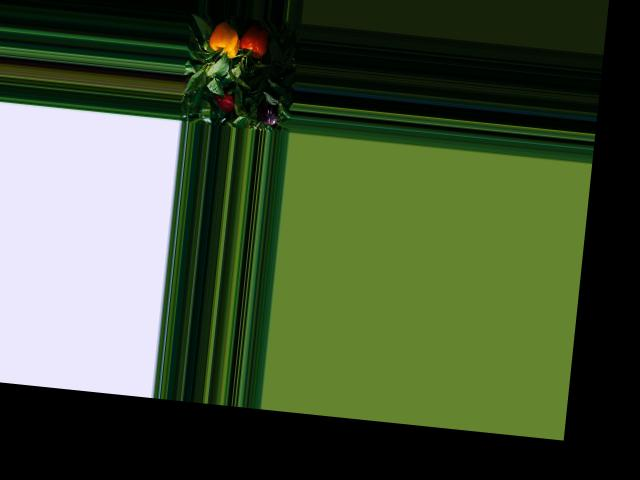bell_pepper: (207, 21, 248, 61)
